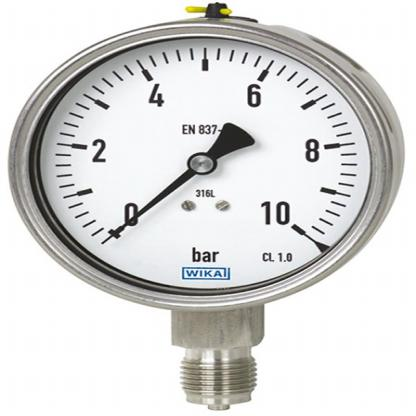needle: (106, 167, 201, 238)
